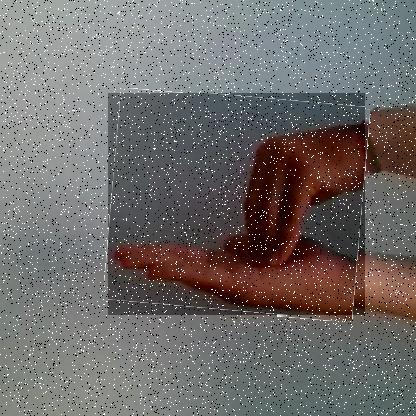Z: (107, 94, 365, 318)
